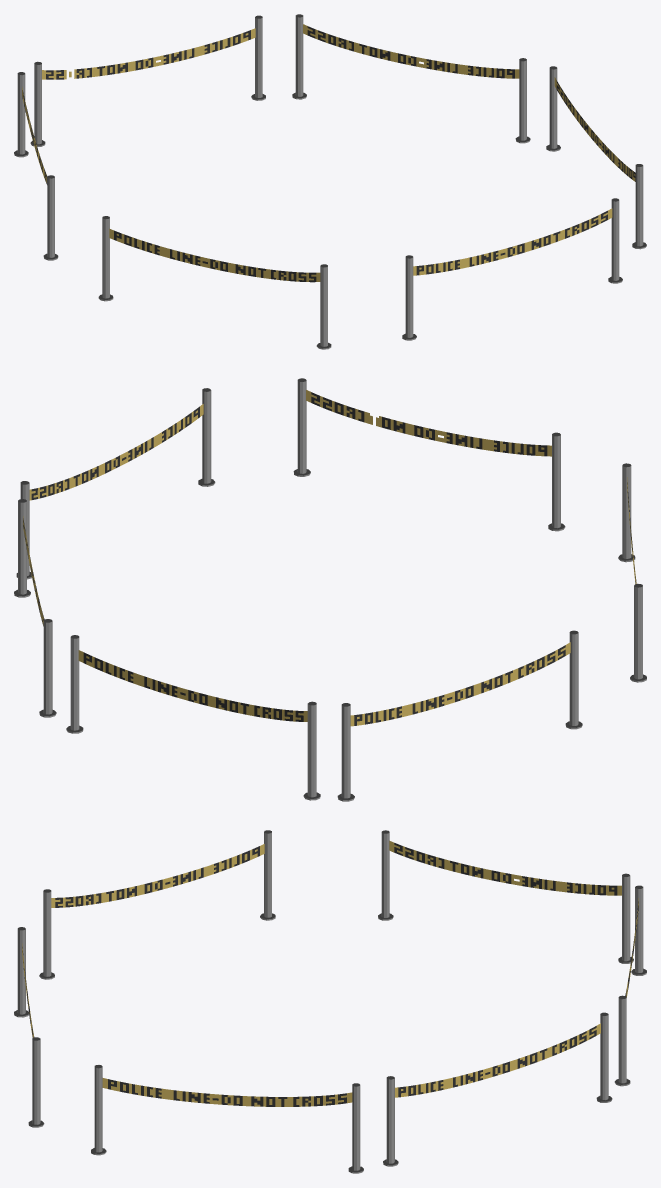
The model's file is yellowtape.glb.
The picture shows the model from 3 angles, top to bottom: view 1: azimuth 30°, elevation 25°; view 2: azimuth 150°, elevation 25°; view 3: azimuth 270°, elevation 25°; orthographic projection. The views are drawn at different scales.
Visible parts, largest first — view 1: Cylinder.027, Cylinder.029, Cylinder.028, Cylinder.026, Cylinder.030, Cylinder.020; view 2: Cylinder.029, Cylinder.026, Cylinder.020, Cylinder.030, Cylinder.027, Cylinder.028; view 3: Cylinder.030, Cylinder.020, Cylinder.028, Cylinder.027, Cylinder.026, Cylinder.029.
Boxes of the visible parts, box(x1,y1,x2,y2) form: Cylinder.027: box(292, 14, 530, 143); Cylinder.029: box(402, 198, 622, 340); Cylinder.028: box(98, 216, 331, 349); Cylinder.026: box(30, 15, 265, 146); Cylinder.030: box(546, 66, 646, 249); Cylinder.020: box(14, 72, 58, 260); Cylinder.029: box(293, 378, 565, 531); Cylinder.026: box(66, 635, 320, 800); Cylinder.020: box(337, 630, 582, 801); Cylinder.030: box(16, 388, 215, 579); Cylinder.027: box(14, 499, 56, 717); Cylinder.028: box(618, 463, 646, 682); Cylinder.030: box(91, 1065, 363, 1173); Cylinder.020: box(378, 830, 633, 963); Cylinder.028: box(39, 830, 275, 979); Cylinder.027: box(383, 1012, 612, 1166); Cylinder.026: box(614, 885, 646, 1086); Cylinder.029: box(14, 927, 44, 1127).
Size of the model in its own units: 6.86 by 1.06 by 7.06.
